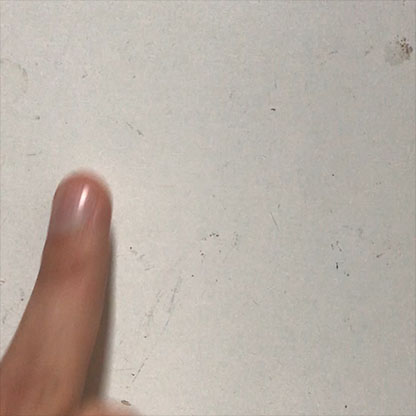fingertip: (44, 166, 125, 252)
